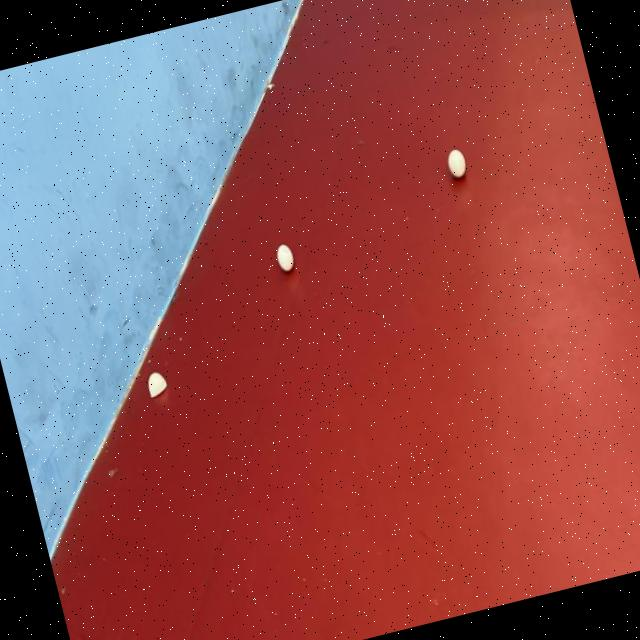ping-pong-ball: (442, 142, 472, 182), (270, 237, 298, 278)
